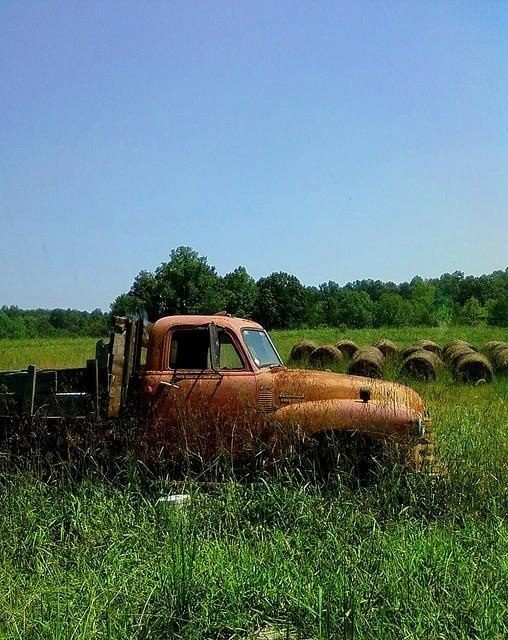truck: (0, 312, 429, 490)
